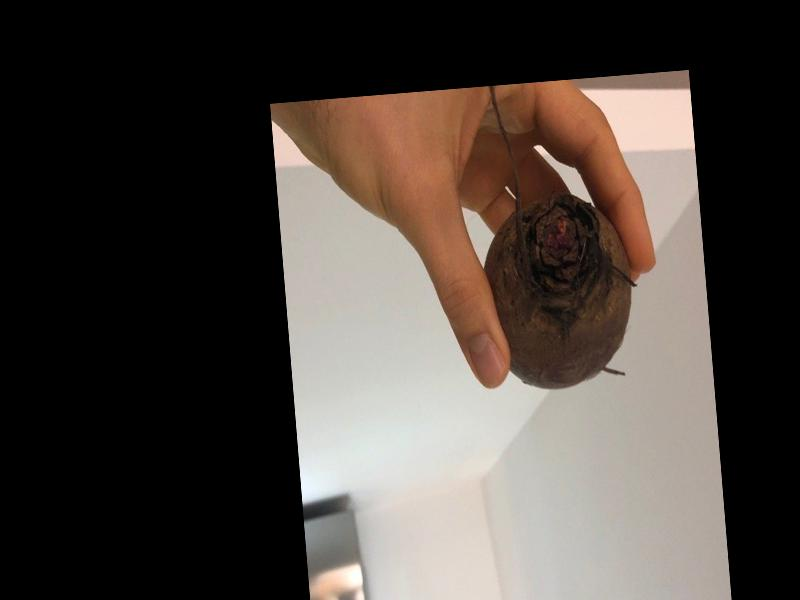Beet: (467, 77, 645, 396)
